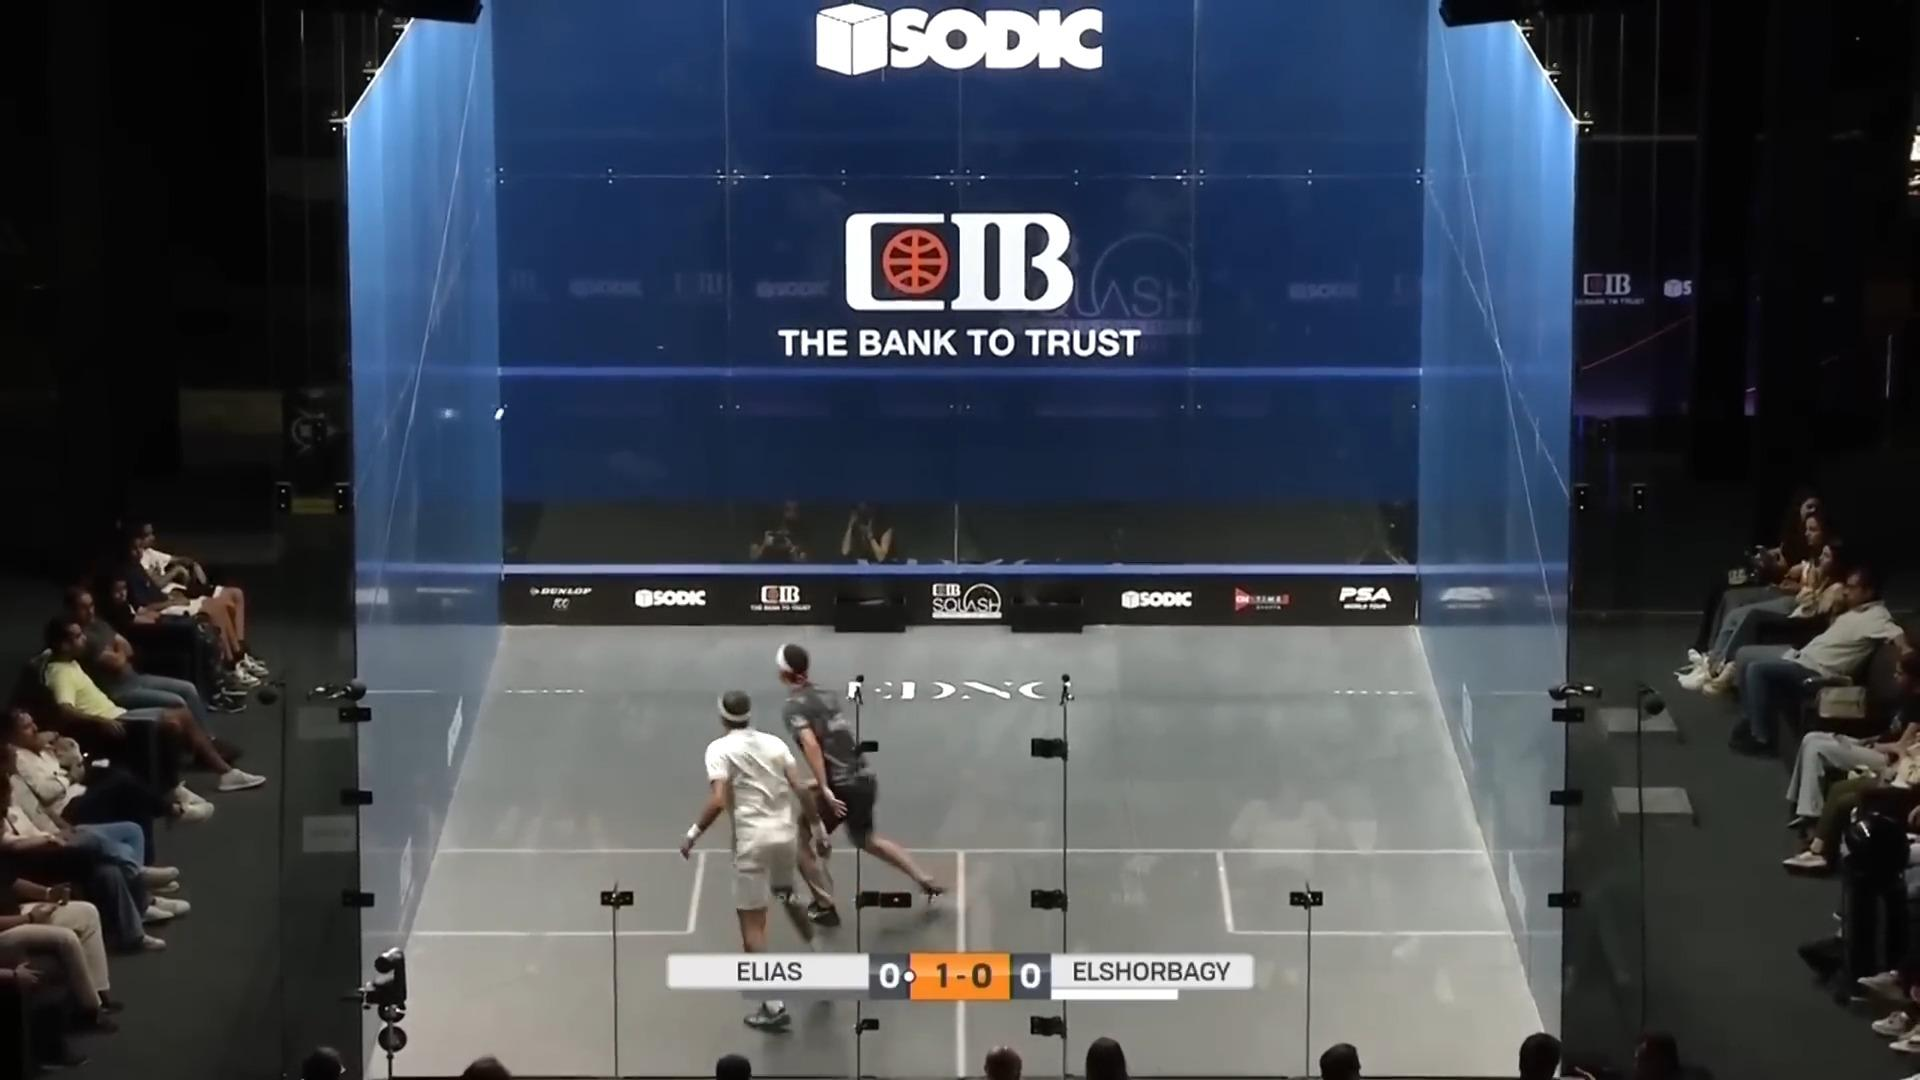Squash-Ball: (485, 402, 514, 427)
